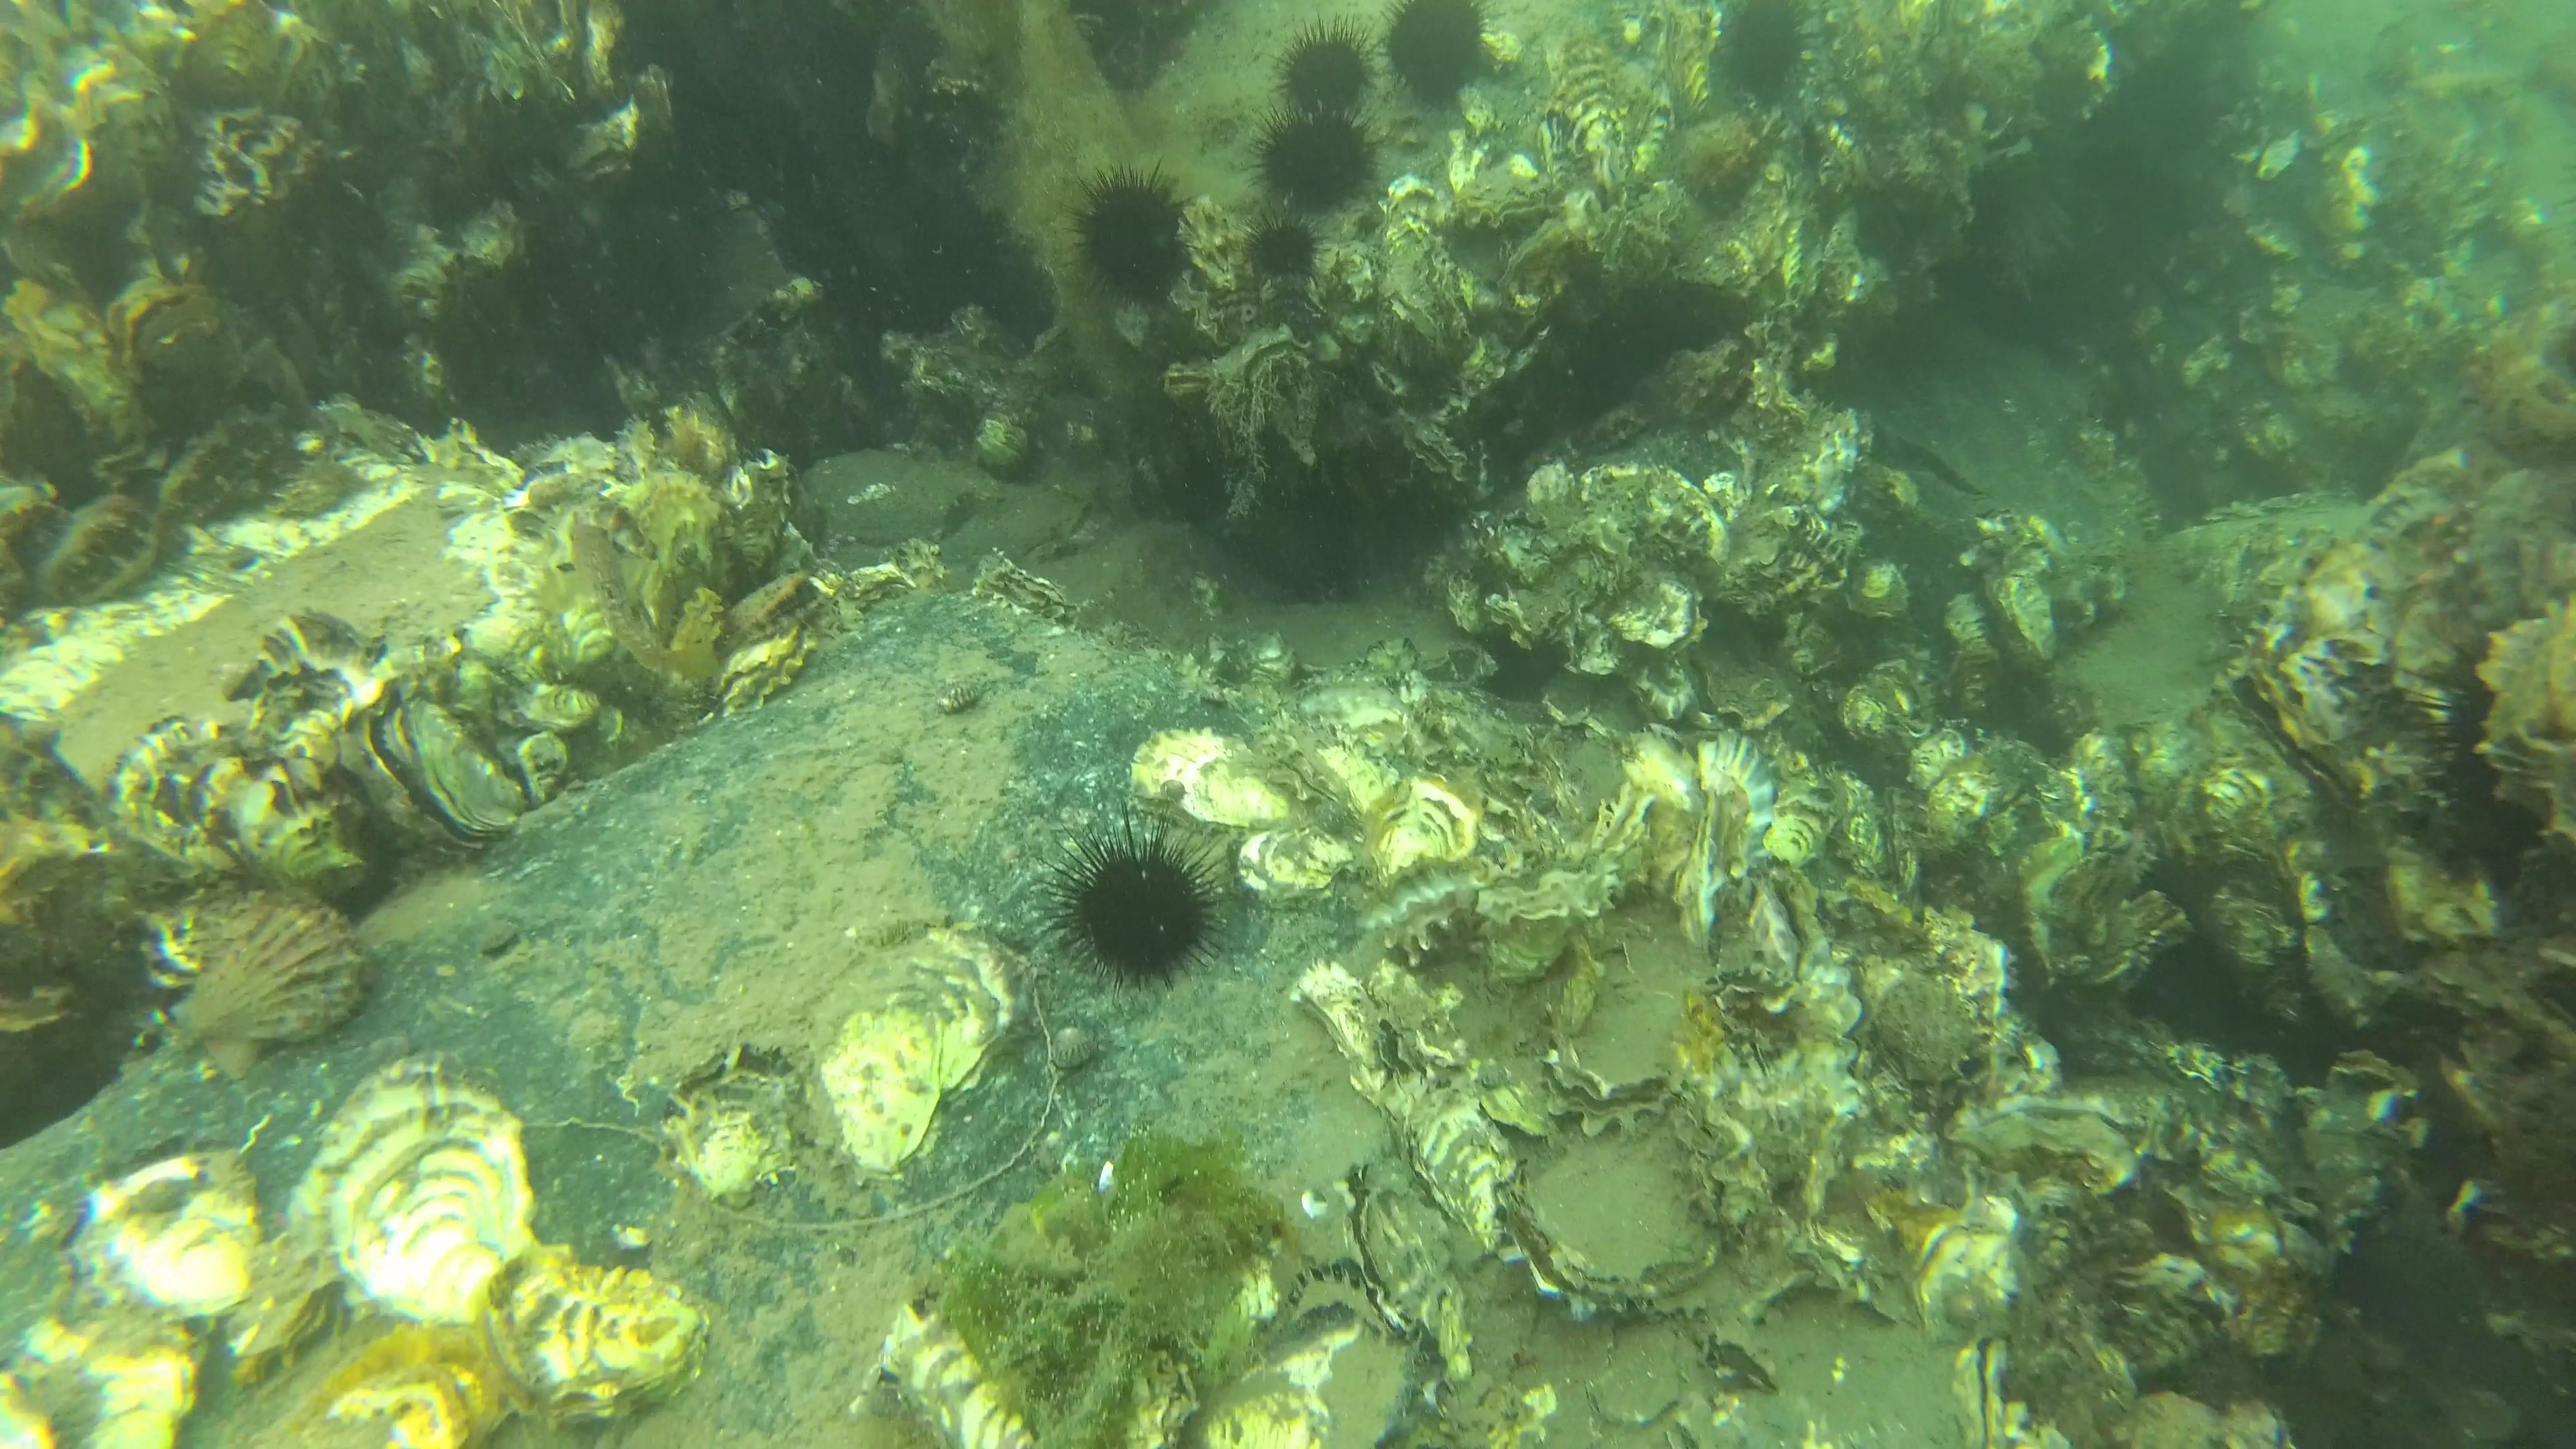echinus: (1035, 794, 1253, 1008), (1062, 157, 1196, 315), (1375, 0, 1500, 117), (1249, 104, 1387, 207), (1720, 7, 1833, 117), (1277, 11, 1382, 113), (1231, 202, 1329, 290)
scallop: (161, 878, 384, 1067)
